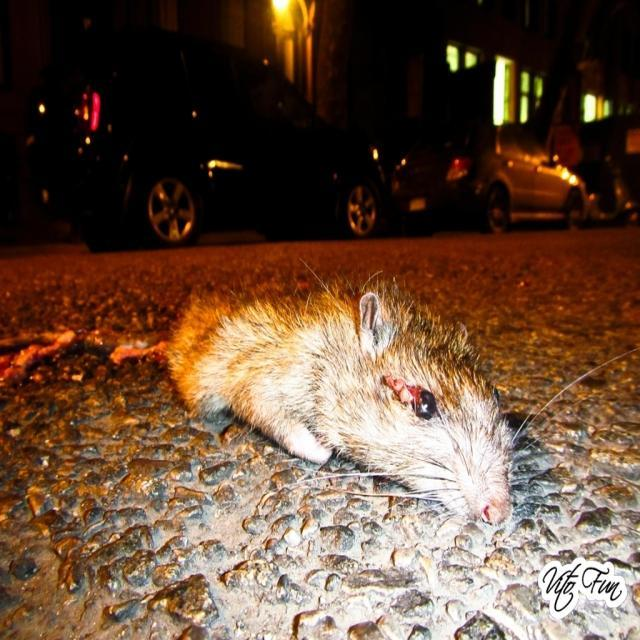rat: (171, 280, 516, 525)
